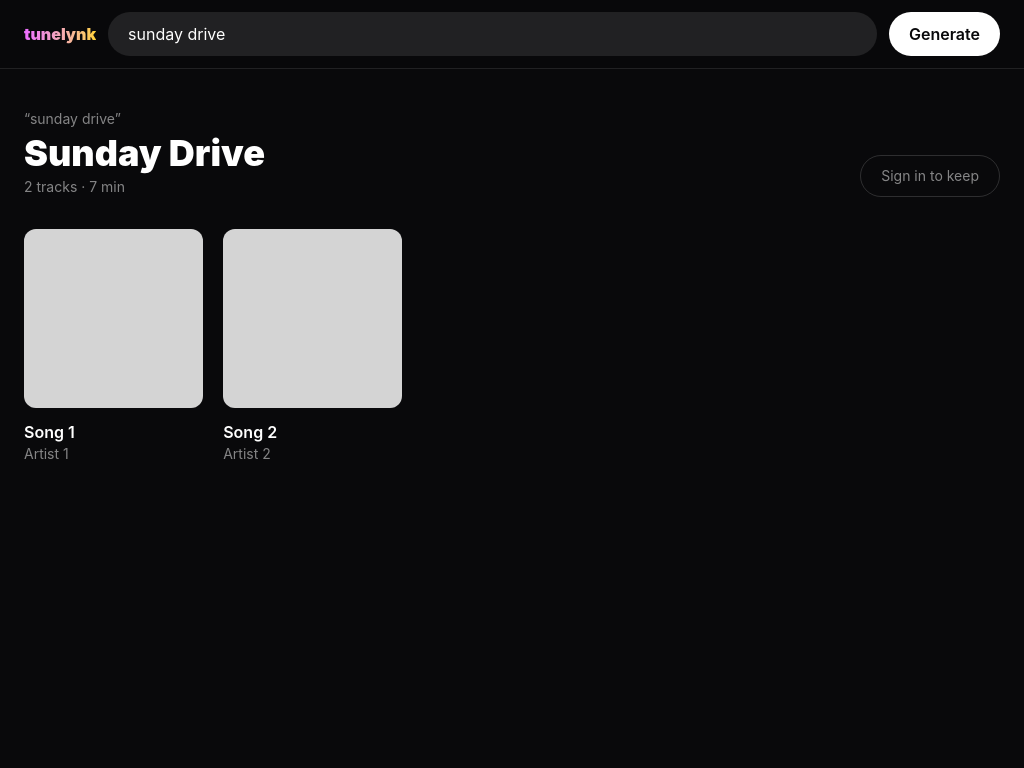
Test case: RunView › stops the clip when leaving the run page
Step 1. Click the button with aria-label "Play Song 1 by Artist 1" → point(114, 347), box top-left (24, 229), bottom-right (203, 464)
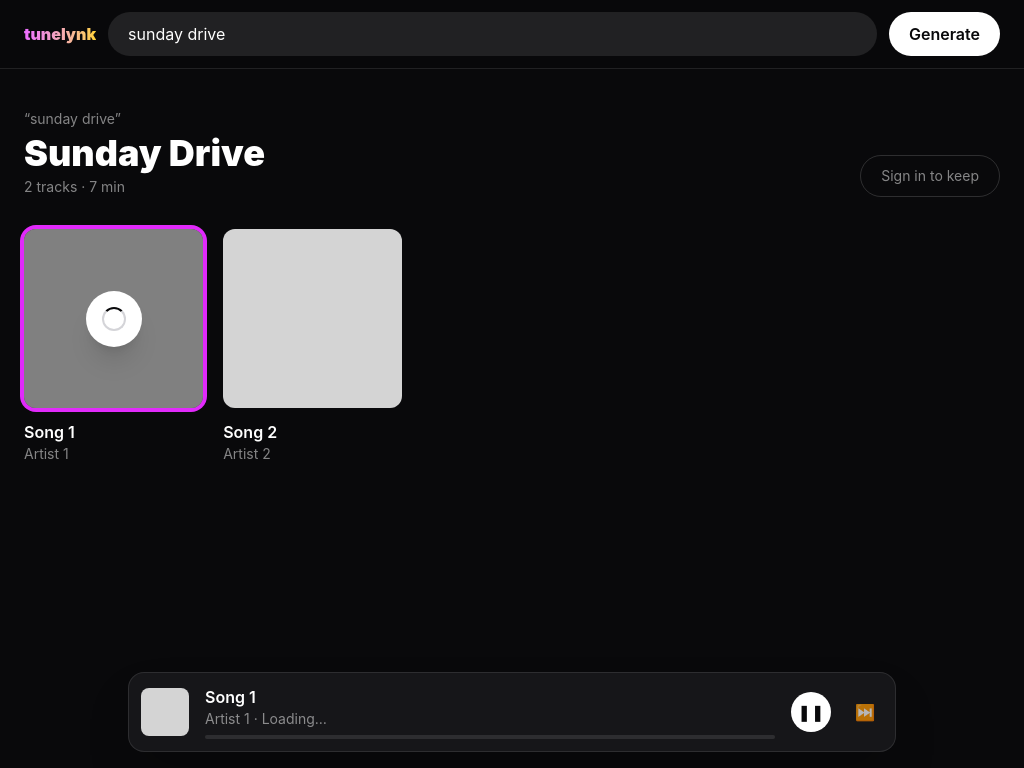
Step 2. Click the link "tunelynk" → point(60, 34), box top-left (24, 22), bottom-right (96, 46)
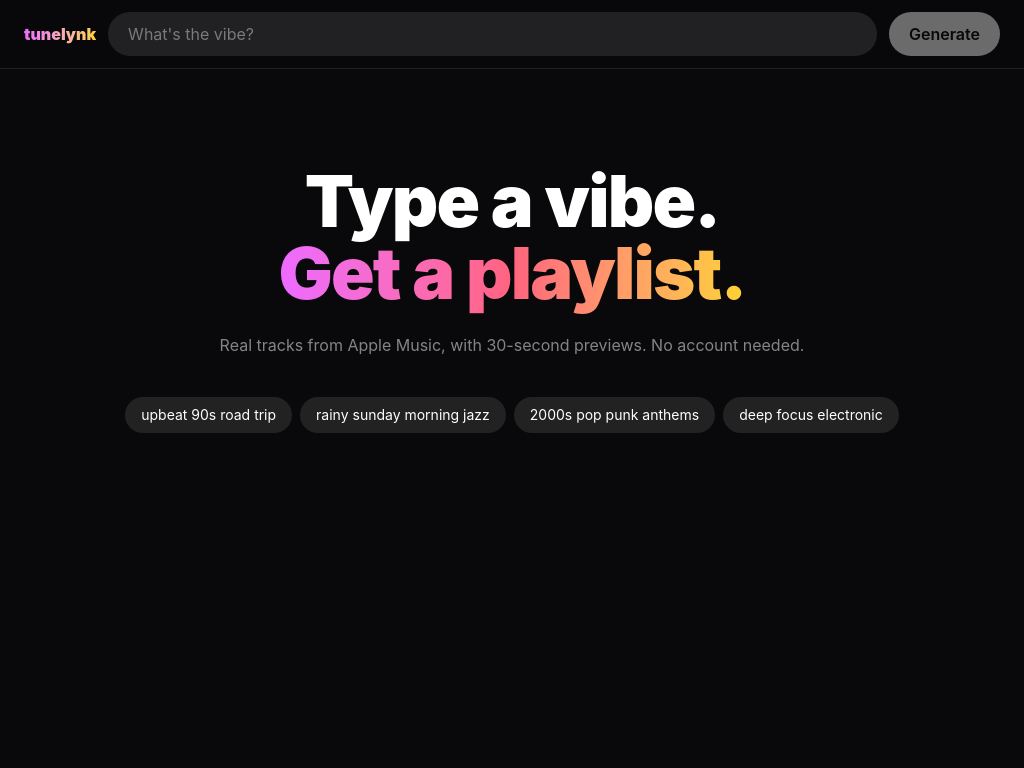
Result: the text "Get a playlist." is shown at top-left (278, 229), bottom-right (746, 316)
